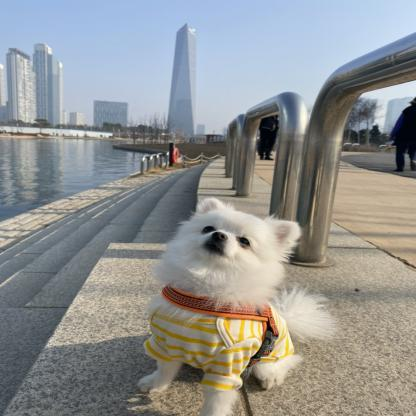dog: (135, 194, 324, 398)
